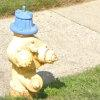a fire hydrant: (3, 29, 56, 95)
